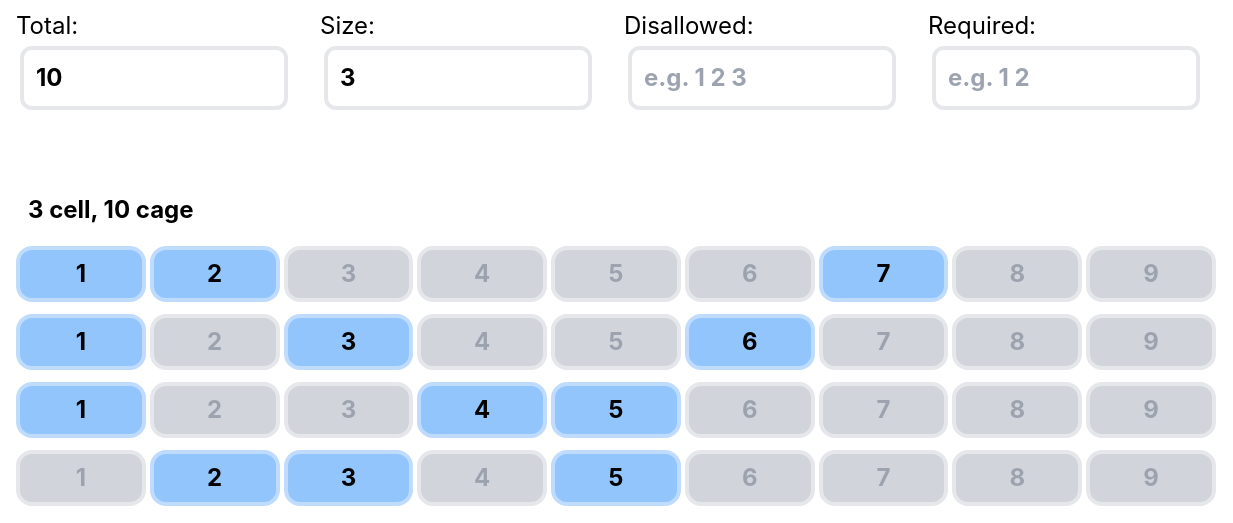
Test: InnerApp › shows validation errors for invalid required and disallowed numbers
Type "10 a" into the field labelled "Disallowed:" at (762, 78), box [628, 46, 896, 110]
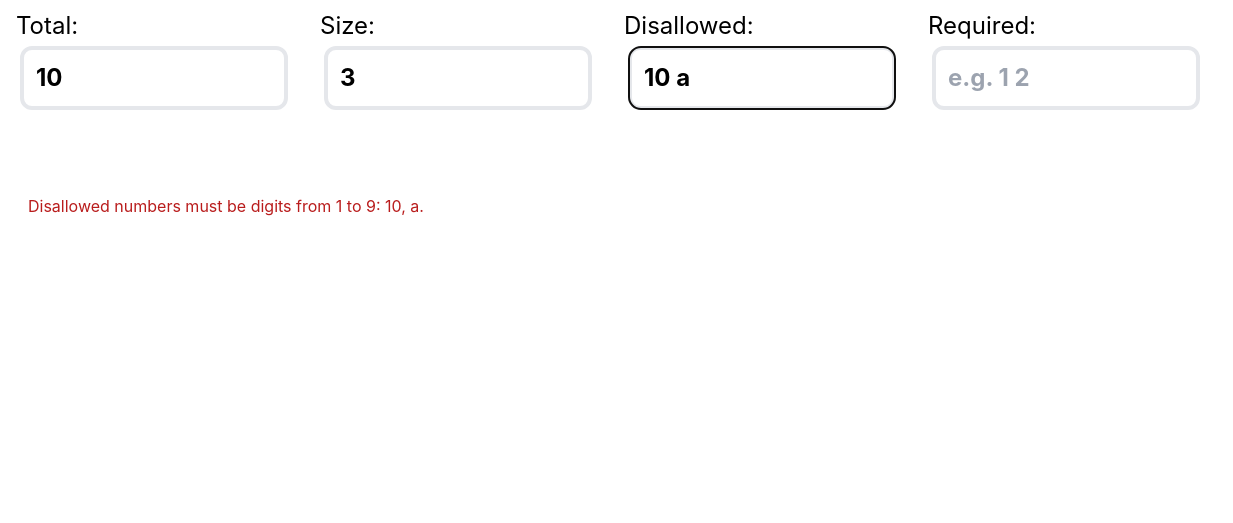
Type "0" into the field labelled "Required:" at (1066, 78), box [932, 46, 1200, 110]
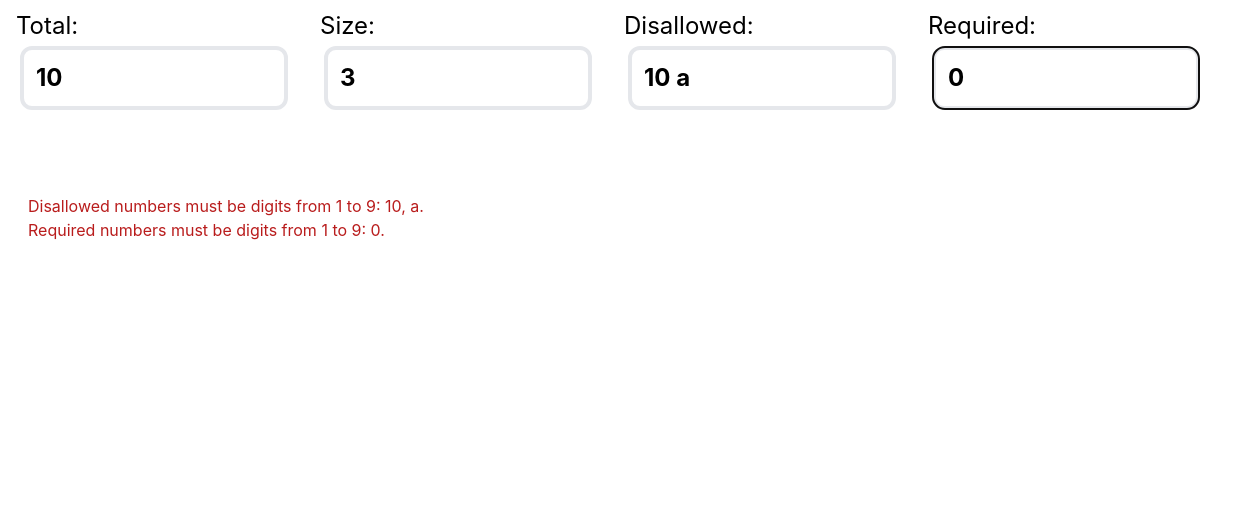
Expected: the heading "cage" is not shown
Result: the text "Disallowed numbers must be digits from 1 to 9: 10, a." is shown at [28, 196, 424, 216]
Result: the text "Required numbers must be digits from 1 to 9: 0." is shown at [28, 220, 385, 240]
